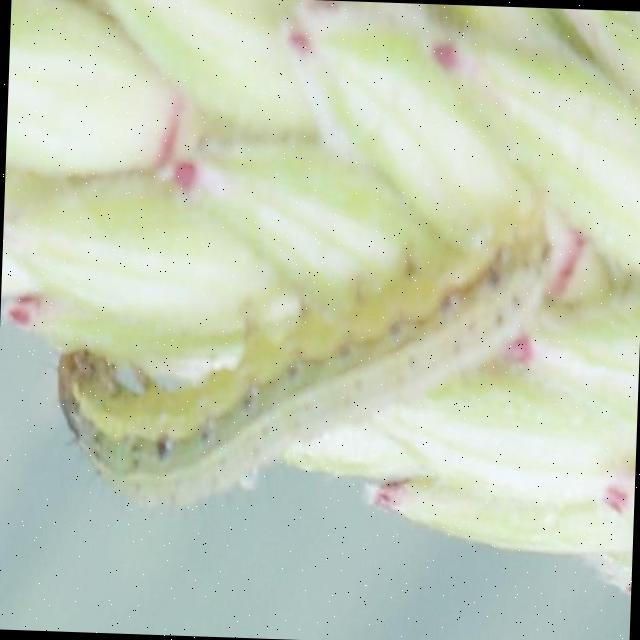worm: (1, 1, 640, 596), (52, 219, 557, 525)
